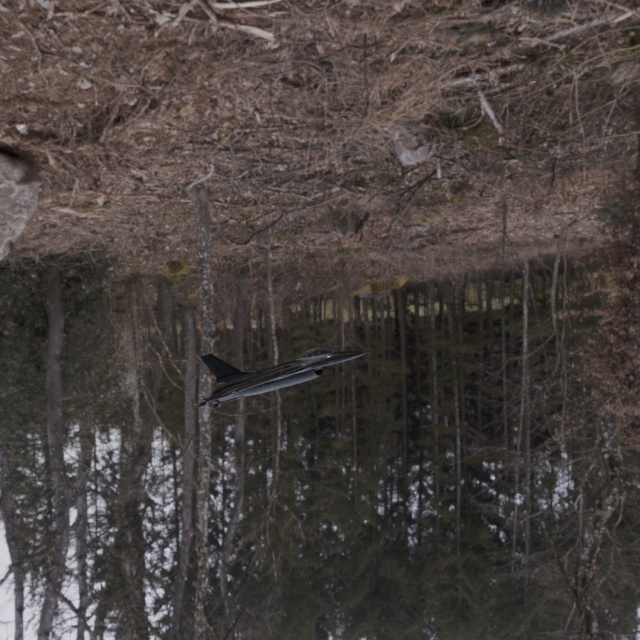model: (160, 292, 406, 423)
